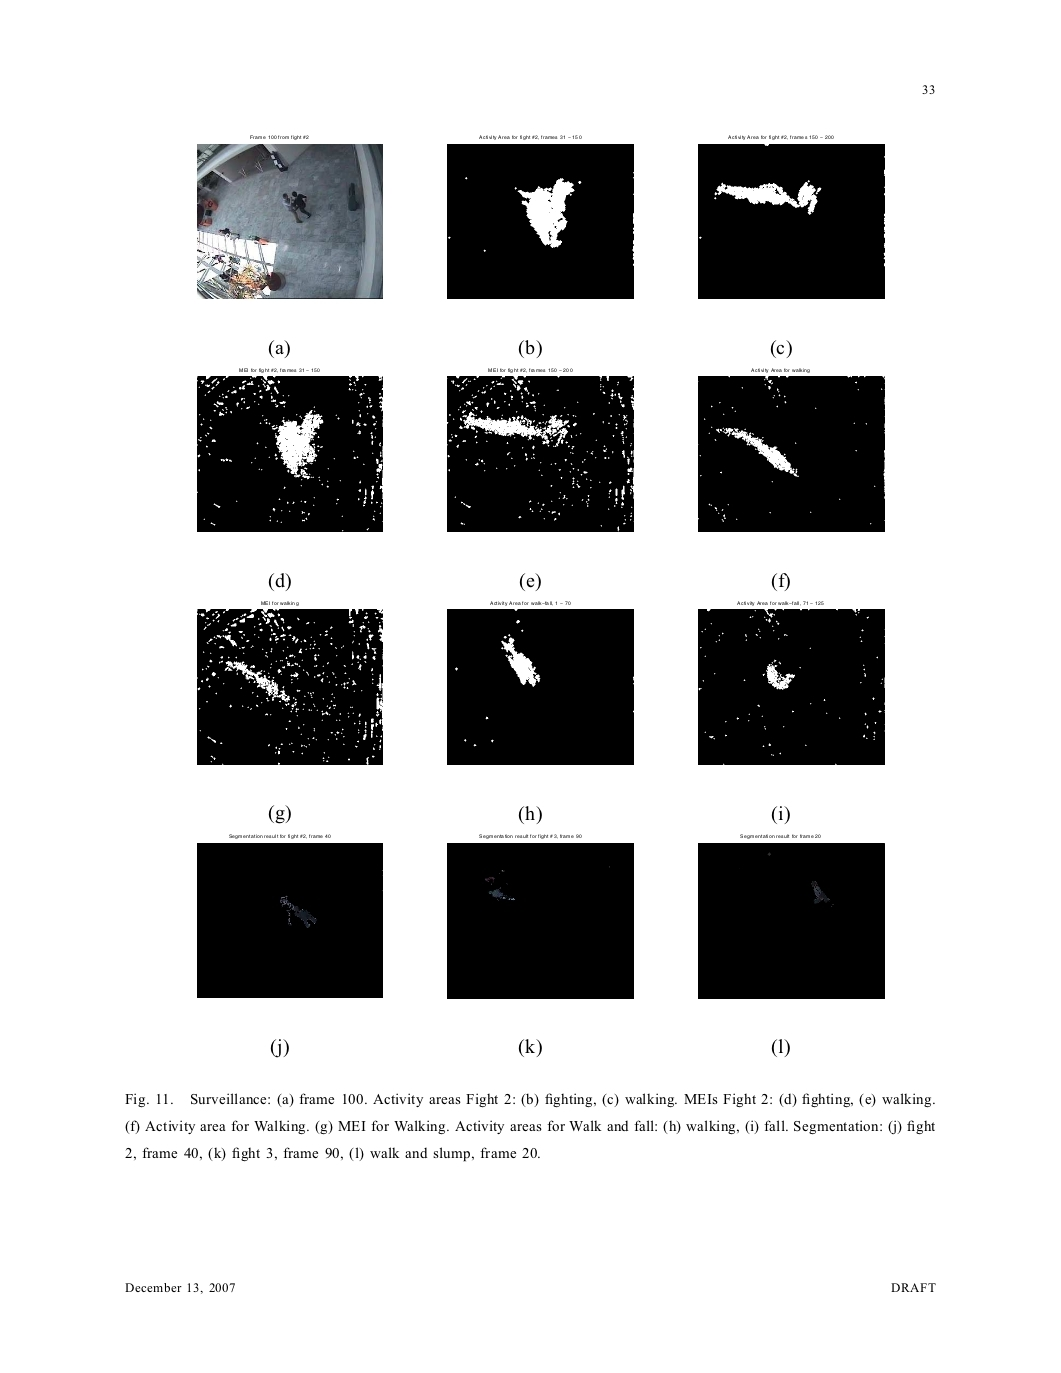figure: (447, 142, 633, 299), (447, 374, 633, 532), (698, 142, 884, 299), (698, 374, 884, 532), (197, 142, 382, 299), (197, 374, 382, 532), (447, 608, 633, 765), (447, 843, 633, 999), (698, 608, 884, 765), (698, 843, 884, 999), (197, 608, 382, 765), (197, 843, 382, 999)
